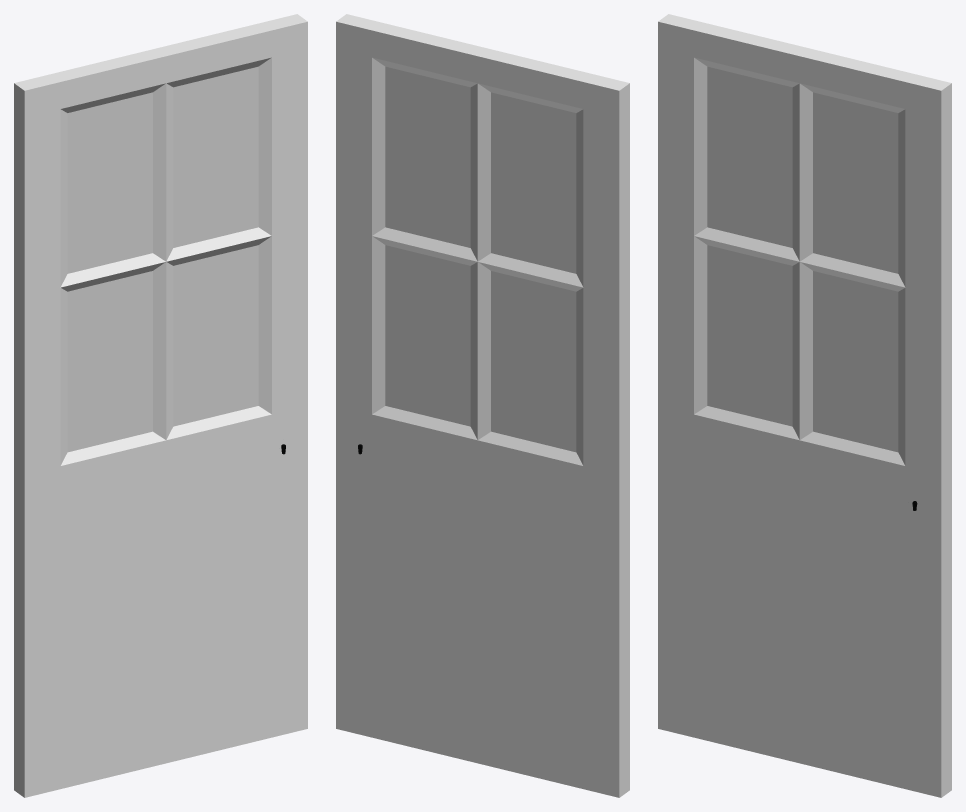
The model's file is Door11.fbx.
3 renders of one model, left to right at view 1: azimuth 30°, elevation 25°; view 2: azimuth 150°, elevation 25°; view 3: azimuth 330°, elevation 25°, orthographic.
Parts seen in each view (by area): view 1: Door11; view 2: Door11; view 3: Door11.
Boxes of the visible parts, left/top/right/bottom form: Door11: left=14, top=14, right=307, bottom=797; Door11: left=336, top=14, right=629, bottom=797; Door11: left=658, top=14, right=951, bottom=797.
Bounding box in the file's own units: 78 × 186 × 6.71.
